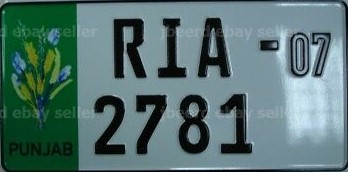0: (285, 31, 311, 79)
1: (218, 92, 254, 155)
2: (90, 93, 128, 157)
7: (130, 92, 169, 155), (310, 31, 331, 79)
8: (175, 92, 214, 155)
A: (197, 16, 233, 79)
I: (156, 17, 189, 80)
R: (111, 17, 149, 81)
